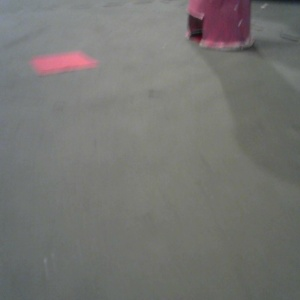middle: (30, 1, 117, 102)
